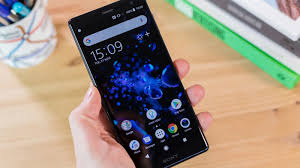sony: (69, 1, 211, 168)
